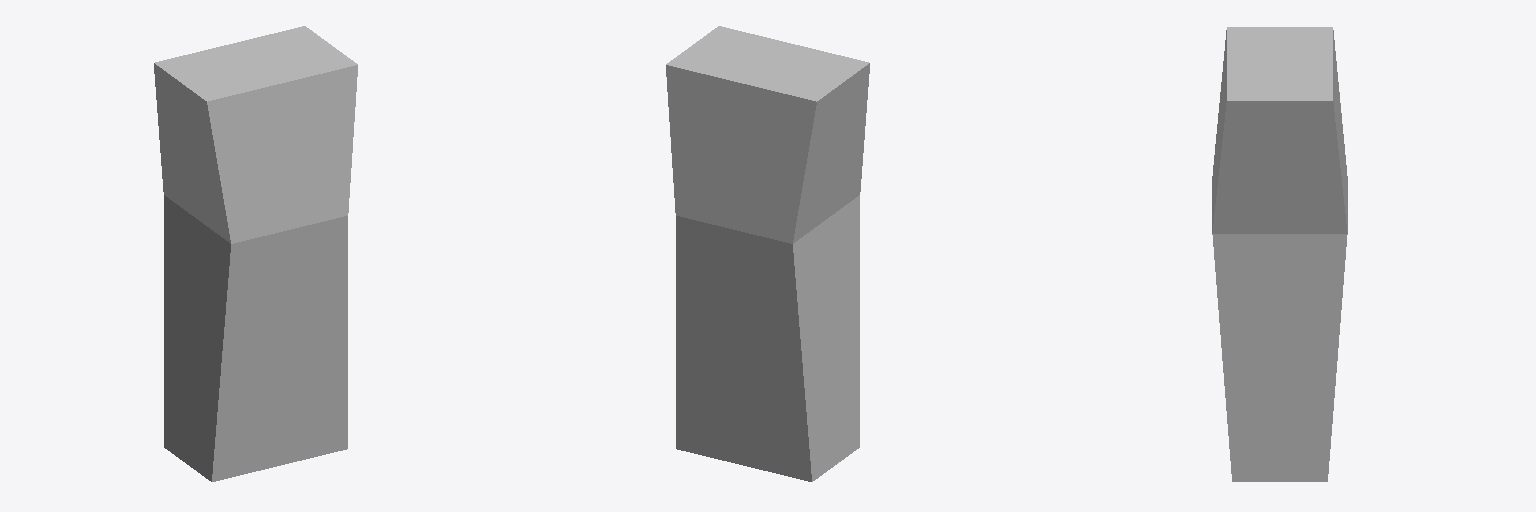
File: maleChibiCollideSquare.obj
3 views of the same model, side by side, from view 1: azimuth 30°, elevation 25°; view 2: azimuth 150°, elevation 25°; view 3: azimuth 270°, elevation 25° (orthographic).
Parts seen in each view (by area): view 1: collideSquare_Cube.008; view 2: collideSquare_Cube.008; view 3: collideSquare_Cube.008.
Boxes of the visible parts, x1,y1,x2,y2 form: collideSquare_Cube.008: [154, 26, 357, 481]; collideSquare_Cube.008: [666, 26, 869, 481]; collideSquare_Cube.008: [1212, 27, 1347, 481].
Size of the model in its own units: 0.5937 by 1.44 by 0.4588.